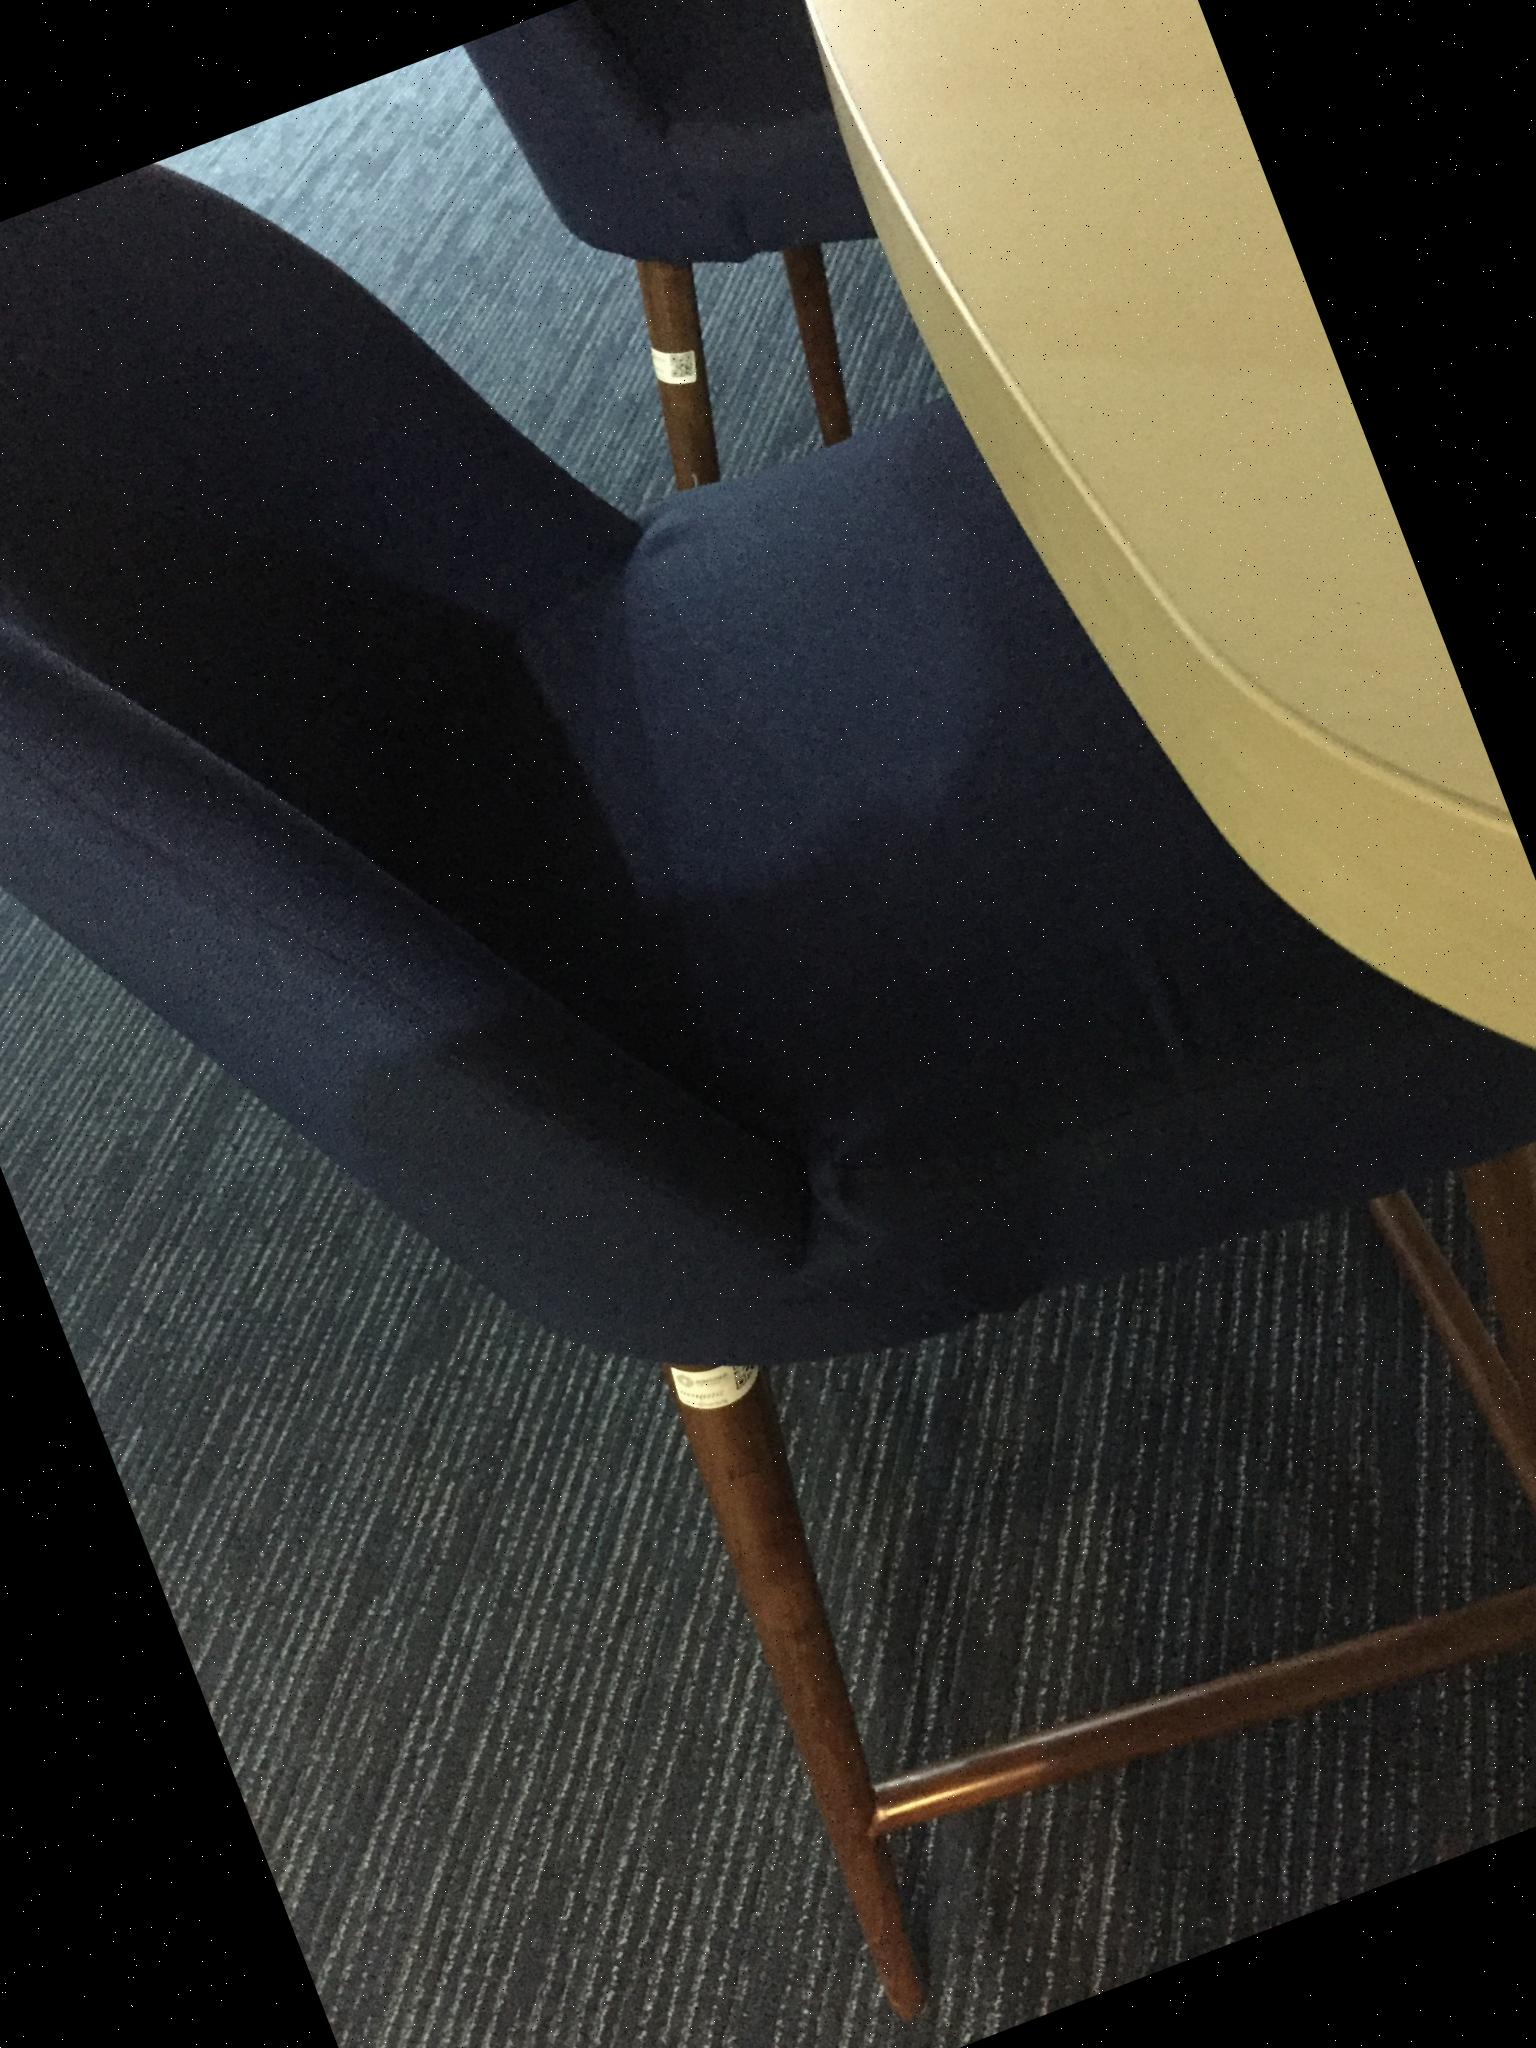chair: (0, 0, 1536, 2048), (460, 0, 962, 518)
